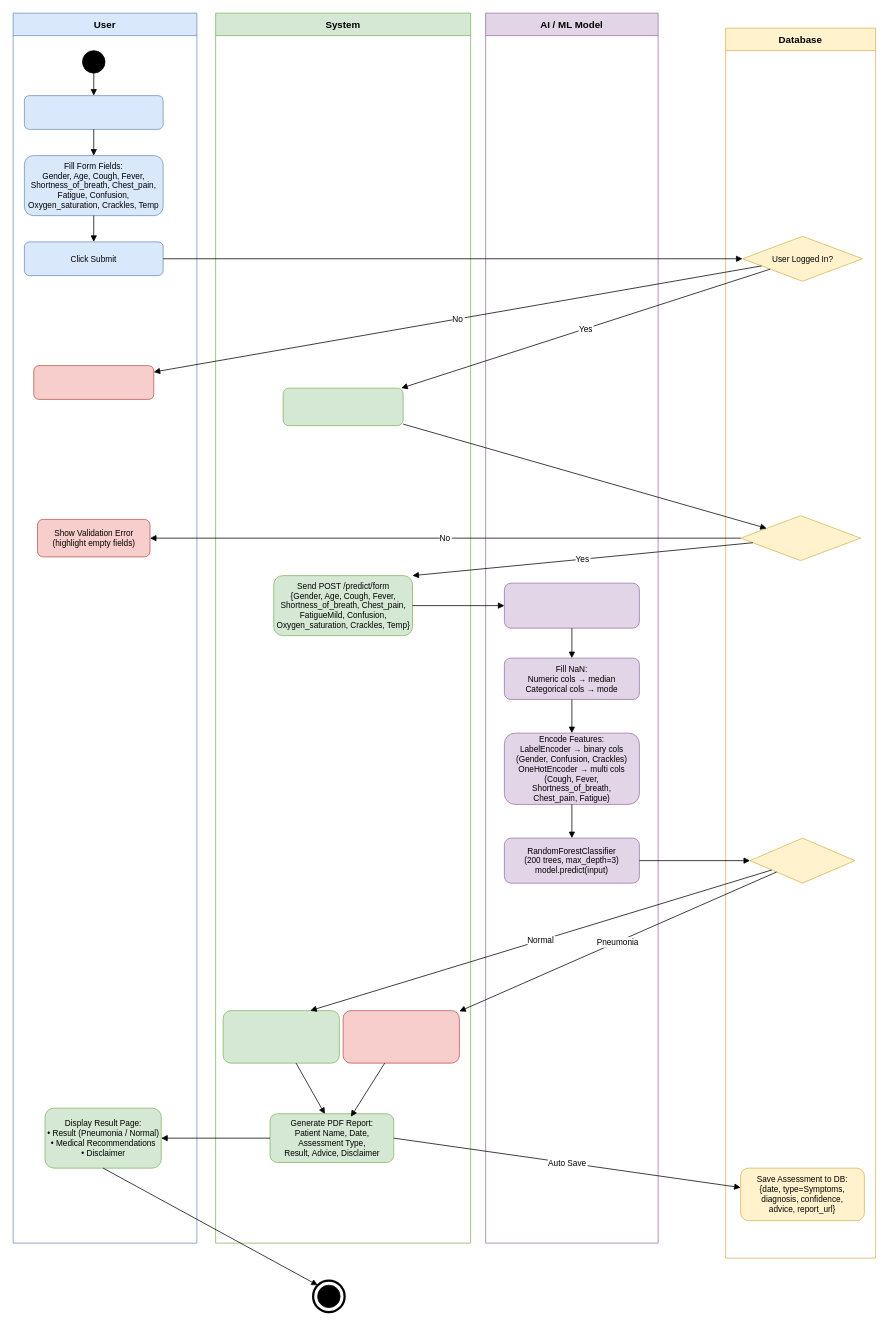
This 889x1326 diagram has some shape labels left out. Here are the shapes that lost their labels. From the top down, the centre of each, then its label:
point (93, 112): Open Symptom Checker Page
point (93, 382): Redirect to Login Page
point (342, 406): Validate Input Fields (required fields check)
point (800, 538): Input Valid?
point (571, 605): Drop: WBC_count, PatientID, Sputum_color Replace '-' → NaN
point (802, 860): Diagnosis?
point (280, 1036): Return: diagnosis = Normal advice (stay healthy)
point (400, 1036): Return: diagnosis = Pneumonia advice (consult doctor)
